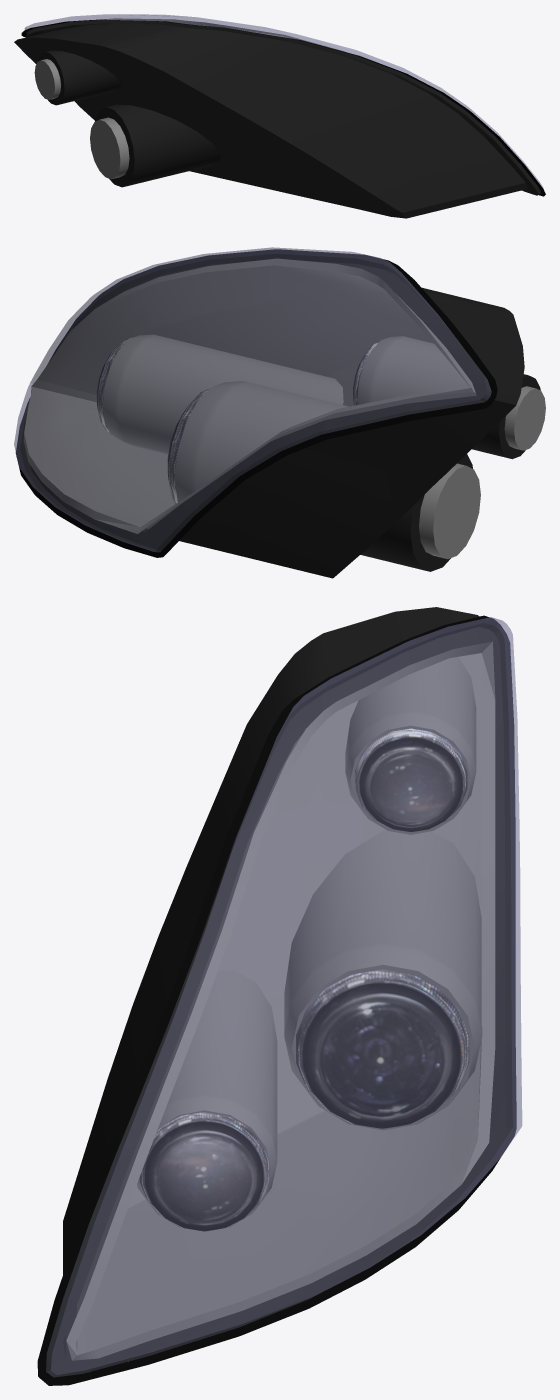
The picture shows the model from 3 angles, top to bottom: view 1: azimuth 30°, elevation 25°; view 2: azimuth 150°, elevation 25°; view 3: azimuth 270°, elevation 25°; orthographic projection. The views are drawn at different scales.
Parts seen in each view (by area): view 1: Z187_061B_L_Z187_061B_L_2_N, Z187_061B_L_1_N_Z187_061B_L, Z187_061B_L_Z187_061B_L_3_DTaSI, Z187_061B_L_Z187_061B_L_D; view 2: Z187_061B_L_Z187_061B_L_3_DTaSI, Z187_061B_L_1_N_Z187_061B_L, Z187_061B_L_Z187_061B_L_2_N, Z187_061B_L_Z187_061B_L_D, Z187_061B_L_Z187_061B_L_5_N, Z187_061B_L_Z187_061B_L_4_N; view 3: Z187_061B_L_Z187_061B_L_3_DTaSI, Z187_061B_L_1_N_Z187_061B_L, Z187_061B_L_Z187_061B_L_2_N, Z187_061B_L_Z187_061B_L_5_N, Z187_061B_L_Z187_061B_L_D, Z187_061B_L_Z187_061B_L_4_N, Z187_061B_L_Z187_061B_L_6_N.
Part boxes in pixels (left/top/right/bottom): Z187_061B_L_Z187_061B_L_2_N: left=14, top=19, right=541, bottom=218; Z187_061B_L_1_N_Z187_061B_L: left=34, top=18, right=344, bottom=179; Z187_061B_L_Z187_061B_L_3_DTaSI: left=24, top=14, right=543, bottom=188; Z187_061B_L_Z187_061B_L_D: left=21, top=19, right=545, bottom=196; Z187_061B_L_Z187_061B_L_3_DTaSI: left=14, top=247, right=491, bottom=552; Z187_061B_L_1_N_Z187_061B_L: left=23, top=258, right=545, bottom=559; Z187_061B_L_Z187_061B_L_2_N: left=20, top=253, right=540, bottom=578; Z187_061B_L_Z187_061B_L_D: left=15, top=249, right=497, bottom=557; Z187_061B_L_Z187_061B_L_5_N: left=167, top=389, right=208, bottom=503; Z187_061B_L_Z187_061B_L_4_N: left=96, top=338, right=130, bottom=431; Z187_061B_L_Z187_061B_L_3_DTaSI: left=46, top=617, right=522, bottom=1377; Z187_061B_L_1_N_Z187_061B_L: left=66, top=641, right=495, bottom=1360; Z187_061B_L_Z187_061B_L_2_N: left=46, top=607, right=512, bottom=1377; Z187_061B_L_Z187_061B_L_5_N: left=296, top=969, right=469, bottom=1128; Z187_061B_L_Z187_061B_L_D: left=37, top=615, right=516, bottom=1385; Z187_061B_L_Z187_061B_L_4_N: left=139, top=1112, right=269, bottom=1231; Z187_061B_L_Z187_061B_L_6_N: left=355, top=728, right=467, bottom=831.
Size of the model in its own units: 62.7 by 29.21 by 31.35.
